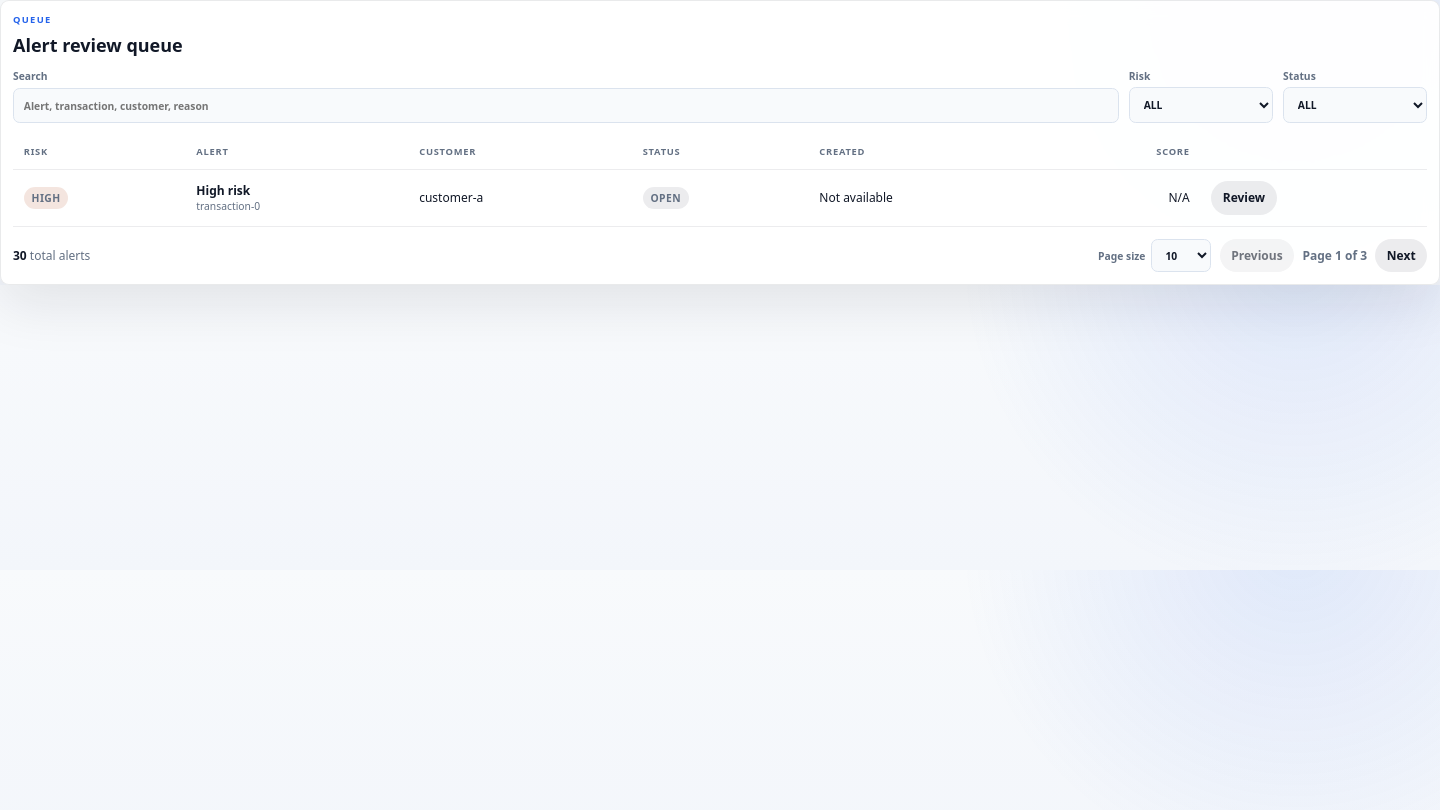
Test: Alert Queue local filtering and backend pagination › keeps backend pagination available when the local status filter has no matches
Later steps or results of the test are not shown.
Step 1. Select "ESCALATED" in the dropdown labelled "Status" → coordinates (1355, 105), box [1283, 87, 1427, 123]
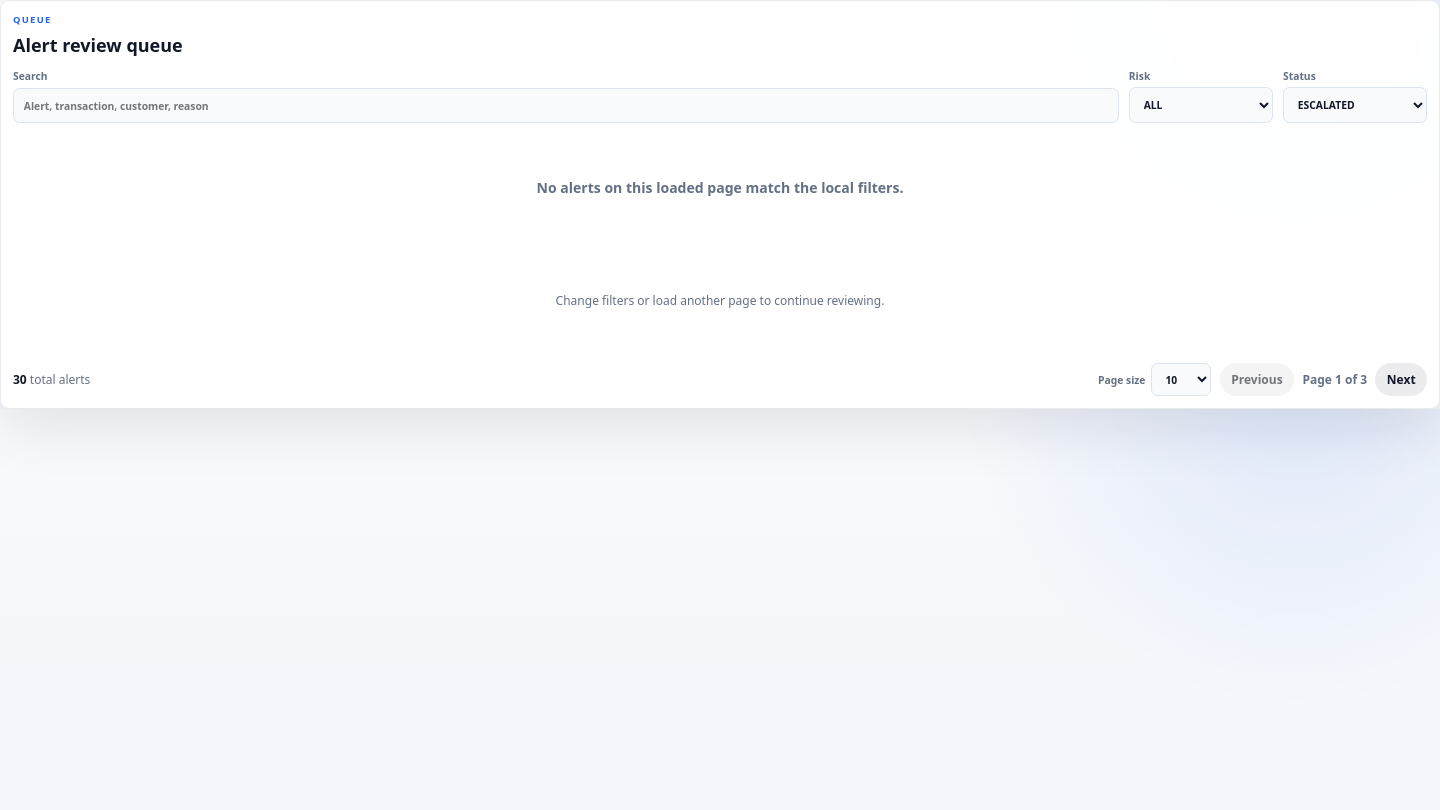
expect the text "Page 1 of 3" is shown: met, box [1302, 371, 1367, 388]
expect the heading "No alerts on this loaded page match the local filters." is shown: met, box [536, 178, 903, 197]
